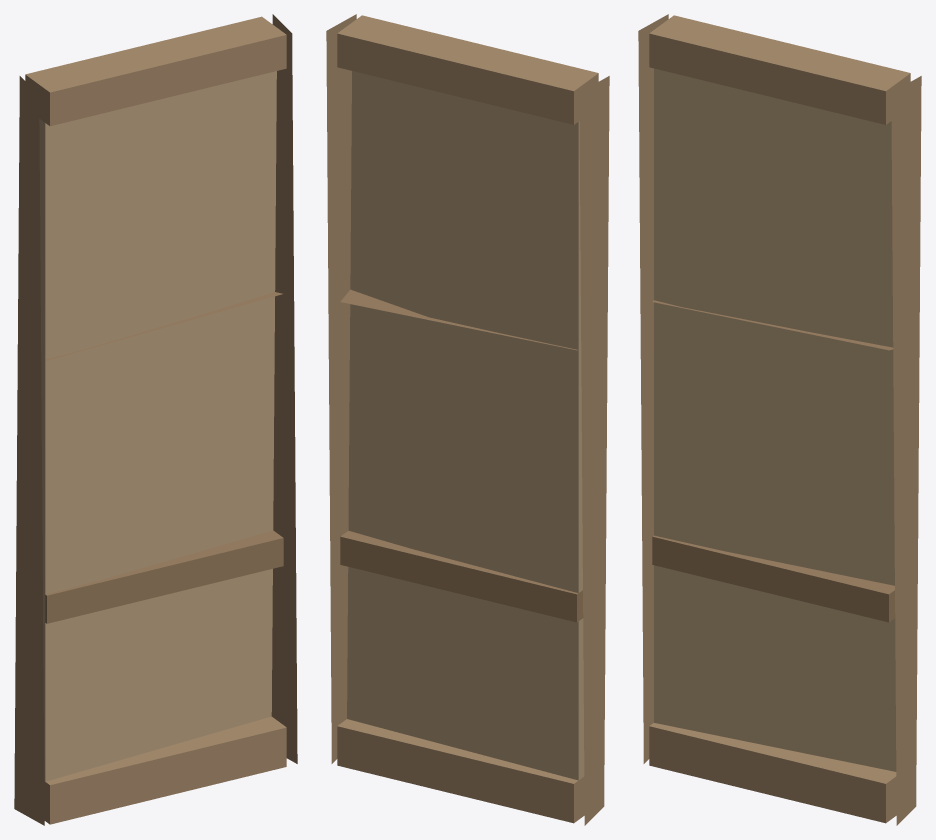
The model's file is 18-Casas_pared_madera.glb.
3 renders of one model, left to right at view 1: azimuth 30°, elevation 25°; view 2: azimuth 150°, elevation 25°; view 3: azimuth 330°, elevation 25°, orthographic.
Visible parts, largest first — view 1: SM_Pared_M_Pared_Madera_Panel, SM_Pared_M_Pared_Madera_Poste, SM_Pared_M_Pared_Madera_Travesano; view 2: SM_Pared_M_Pared_Madera_Panel, SM_Pared_M_Pared_Madera_Poste, SM_Pared_M_Pared_Madera_Travesano; view 3: SM_Pared_M_Pared_Madera_Panel, SM_Pared_M_Pared_Madera_Poste, SM_Pared_M_Pared_Madera_Travesano.
Boxes of the visible parts, x1=… form: SM_Pared_M_Pared_Madera_Panel: x1=39, y1=71, x2=276, y2=781; SM_Pared_M_Pared_Madera_Poste: x1=14, y1=14, x2=297, y2=825; SM_Pared_M_Pared_Madera_Travesano: x1=45, y1=292, x2=283, y2=623; SM_Pared_M_Pared_Madera_Panel: x1=347, y1=71, x2=584, y2=780; SM_Pared_M_Pared_Madera_Poste: x1=326, y1=14, x2=609, y2=825; SM_Pared_M_Pared_Madera_Travesano: x1=340, y1=289, x2=583, y2=622; SM_Pared_M_Pared_Madera_Panel: x1=654, y1=68, x2=896, y2=771; SM_Pared_M_Pared_Madera_Poste: x1=638, y1=14, x2=921, y2=825; SM_Pared_M_Pared_Madera_Travesano: x1=652, y1=300, x2=895, y2=622.
Bounding box in the file's own units: 0.96 × 2.6 × 0.16.
